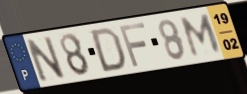8: (59, 32, 92, 77), (157, 17, 187, 62)
D: (89, 26, 128, 74)
F: (117, 21, 148, 69)
M: (179, 12, 223, 59)
N: (23, 34, 68, 84)
